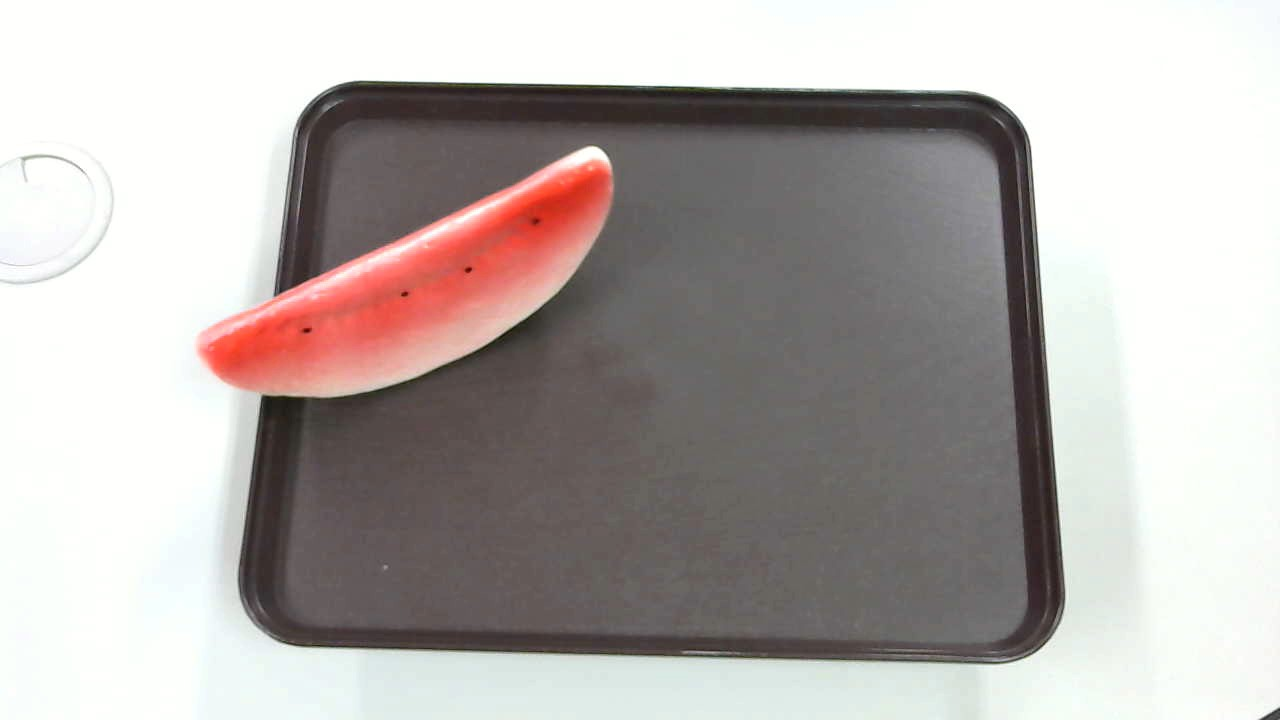water melon: (191, 142, 625, 408)
